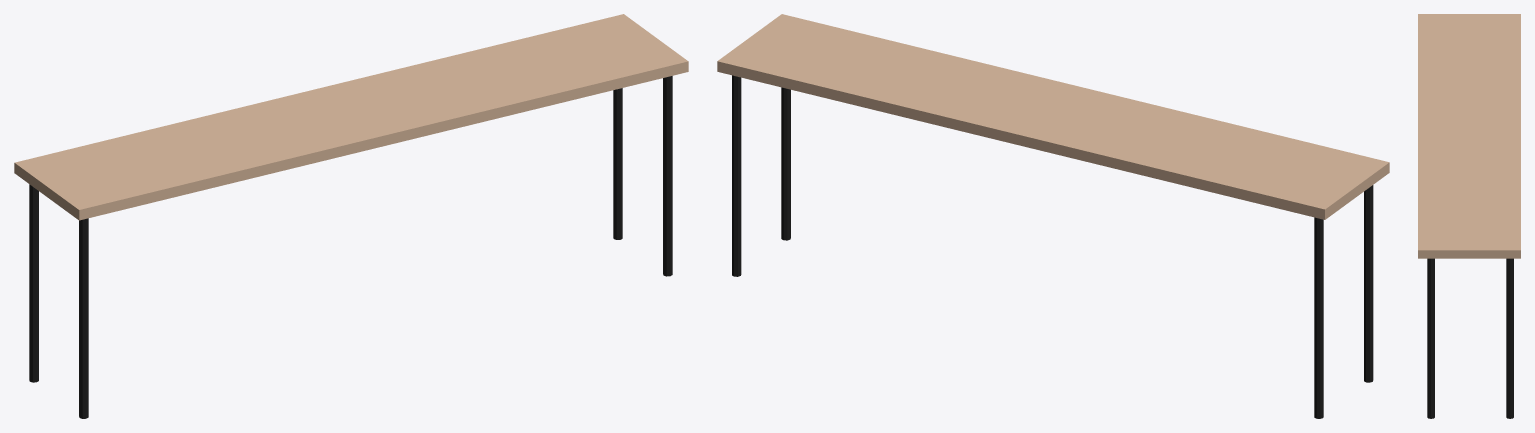
Rendered from longtable.gltf.
The picture shows the model from 3 angles, left to right: view 1: azimuth 30°, elevation 25°; view 2: azimuth 150°, elevation 25°; view 3: azimuth 270°, elevation 25°; orthographic projection. The views are drawn at different scales.
Parts seen in each view (by area): view 1: Cube; view 2: Cube; view 3: Cube.
Part boxes in pixels (x1,y1,x2,y2): Cube: (14, 14, 688, 418); Cube: (717, 14, 1389, 418); Cube: (1418, 14, 1520, 418).
Size of the model in its own units: 2.5 by 0.8479 by 0.4604.
Materials: 1 (1 with a texture image).
